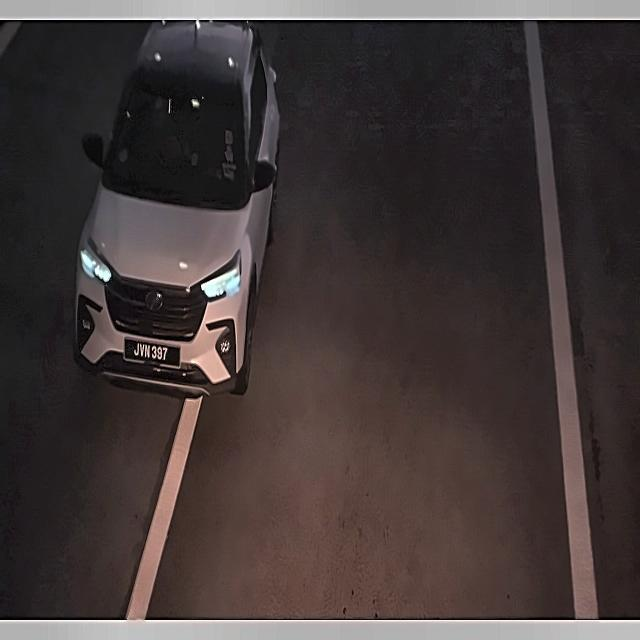car: (118, 330, 184, 373)
